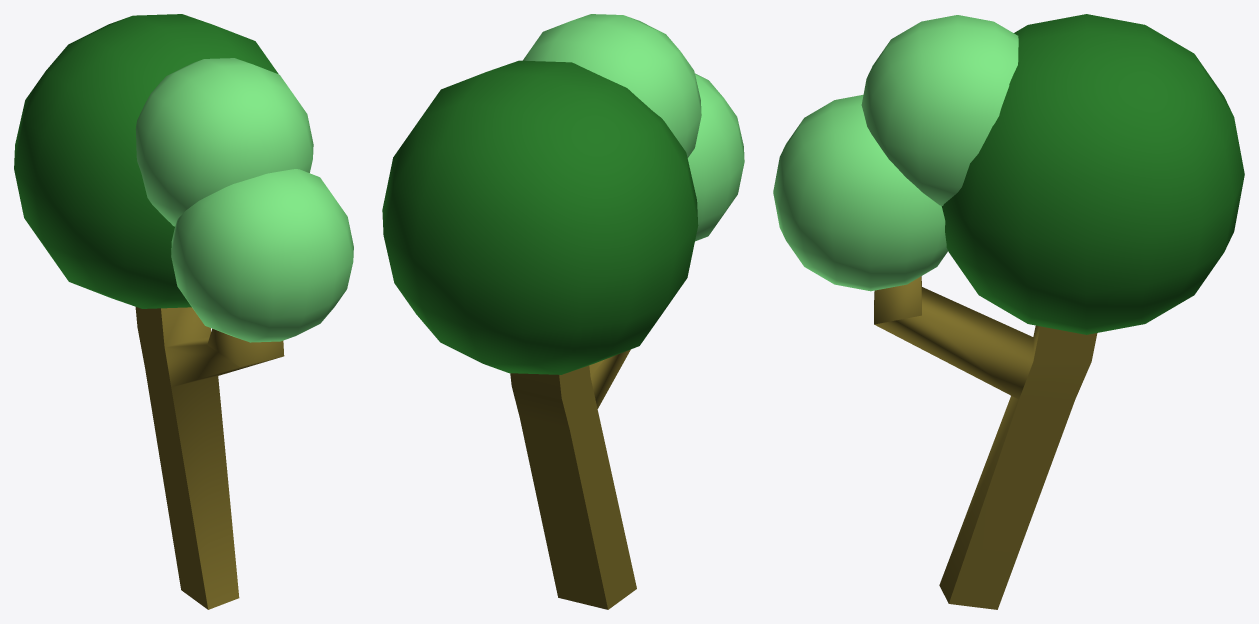
The model's file is Tree_3_Textured.fbx.
3 renders of one model, left to right at view 1: azimuth 30°, elevation 25°; view 2: azimuth 150°, elevation 25°; view 3: azimuth 270°, elevation 25°, orthographic. The views are drawn at different scales.
Parts seen in each view (by area): view 1: polySurface18, polySurface20, polySurface17, polySurface19; view 2: polySurface18, polySurface17, polySurface19, polySurface20; view 3: polySurface18, polySurface17, polySurface20, polySurface19.
Part boxes in pixels (x1,y1,x2,y2): polySurface18: (14,14,278,308); polySurface20: (171,169,353,342); polySurface17: (135,307,284,609); polySurface19: (135,58,313,226); polySurface18: (382,60,698,374); polySurface17: (510,349,636,609); polySurface19: (523,14,701,157); polySurface20: (687,73,744,241); polySurface18: (941,14,1244,334); polySurface17: (874,276,1097,609); polySurface20: (773,94,947,291); polySurface19: (861,15,1018,205).
Bounding box in the file's own units: 5.79 × 11.54 × 8.63.
